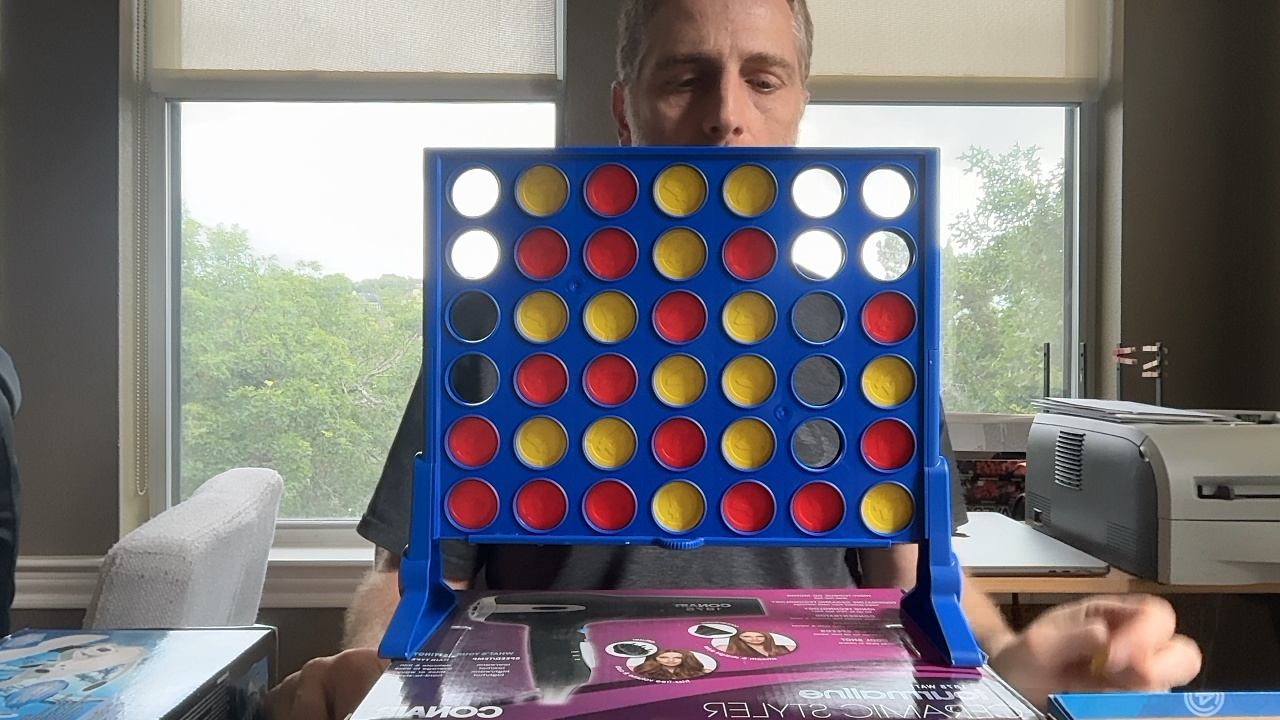red piece: (652, 416, 705, 470), (723, 227, 776, 280), (584, 227, 637, 280), (584, 353, 637, 406), (653, 290, 706, 343), (721, 481, 775, 533), (583, 479, 636, 531), (515, 227, 568, 279), (861, 418, 914, 470), (585, 163, 637, 216), (515, 353, 568, 405), (791, 481, 844, 533), (862, 291, 915, 343), (446, 478, 497, 530), (446, 416, 498, 467), (515, 479, 566, 530)
yellow piece: (583, 416, 636, 469), (654, 163, 706, 216), (653, 354, 705, 407), (722, 418, 775, 470), (722, 291, 775, 343), (514, 416, 567, 468), (583, 290, 636, 342), (653, 227, 706, 279), (514, 291, 568, 342), (862, 355, 914, 407), (652, 480, 704, 532), (724, 164, 776, 216), (722, 356, 775, 407), (861, 482, 914, 533), (516, 164, 567, 216)
